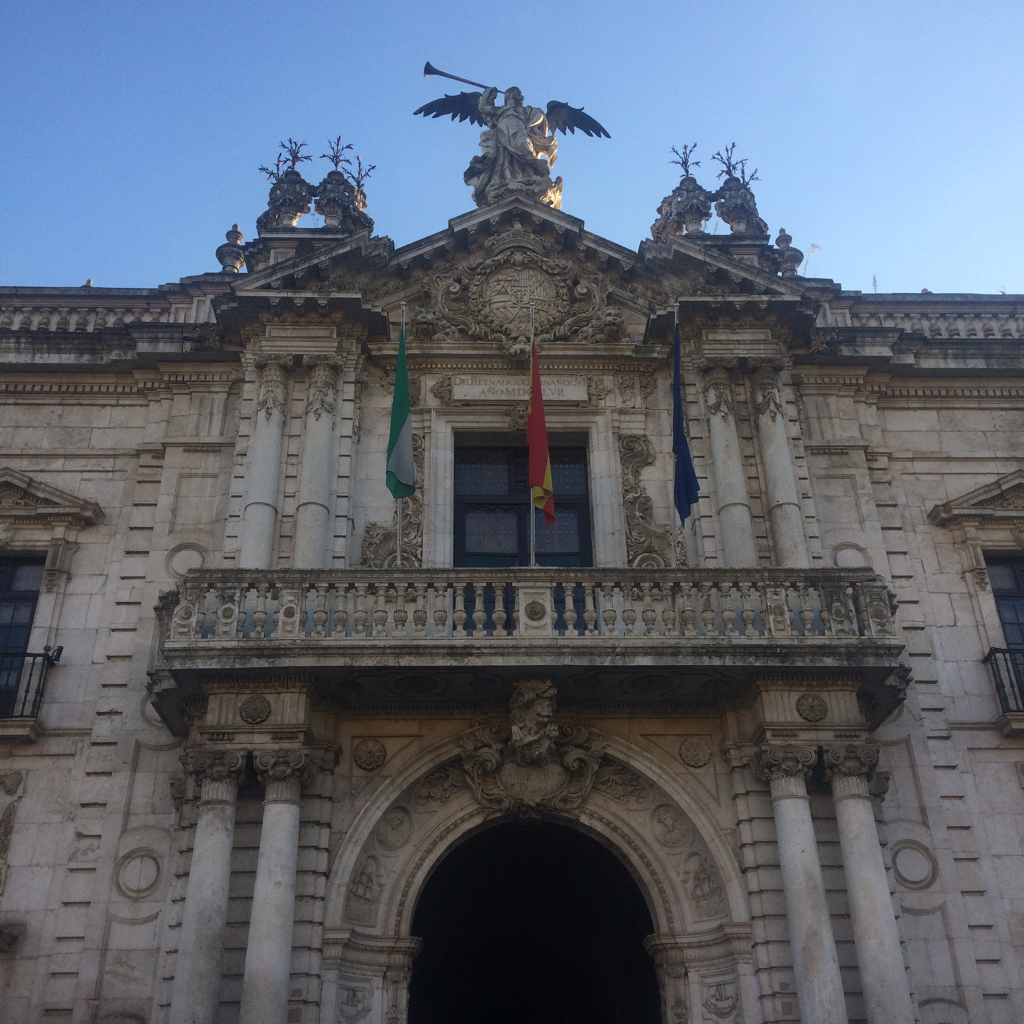arco-medio-punto: (384, 801, 690, 993)
fronton-partido: (229, 196, 821, 321)
vano-adintelado: (421, 408, 625, 639)
